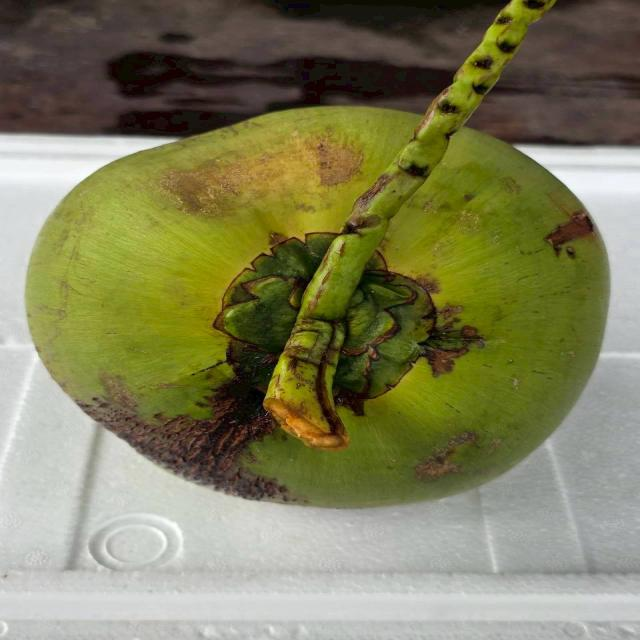coco_2.0: (171, 208, 498, 457)
